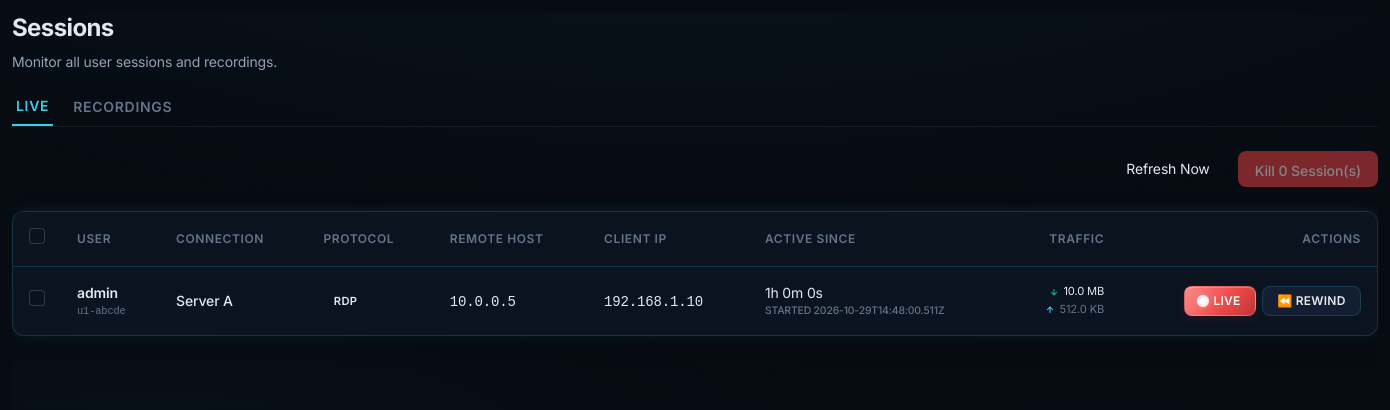
Test: Sessions › shows recording rows
The image size is (1390, 410).
Click the button "Recordings" at (123, 111), box [69,96,176,126]
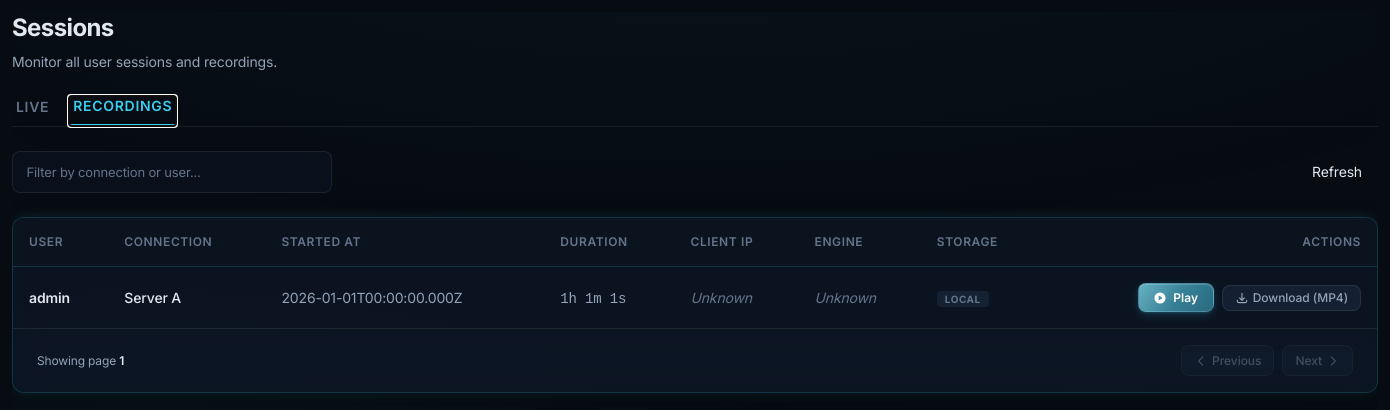
expect the text "Server A" is shown: met, box [124,289,181,306]
expect the text "1h 1m 1s" is shown: met, box [560,291,626,307]
